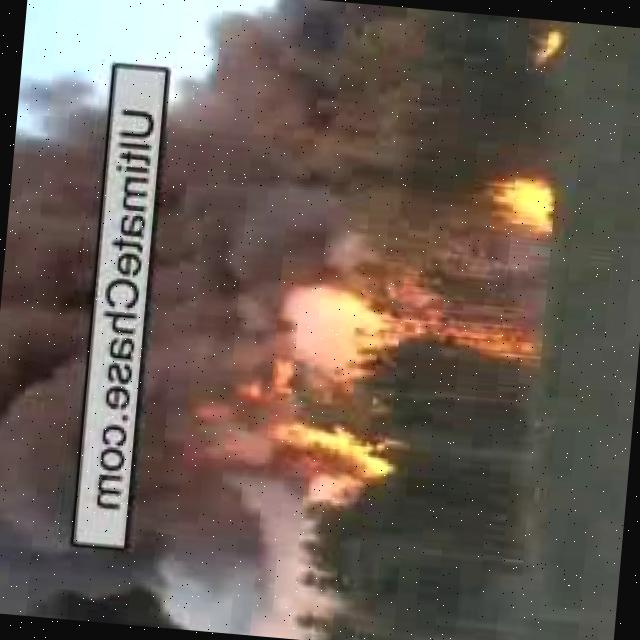fire: (220, 393, 396, 511), (390, 290, 546, 381), (491, 178, 561, 237), (527, 25, 570, 67)
